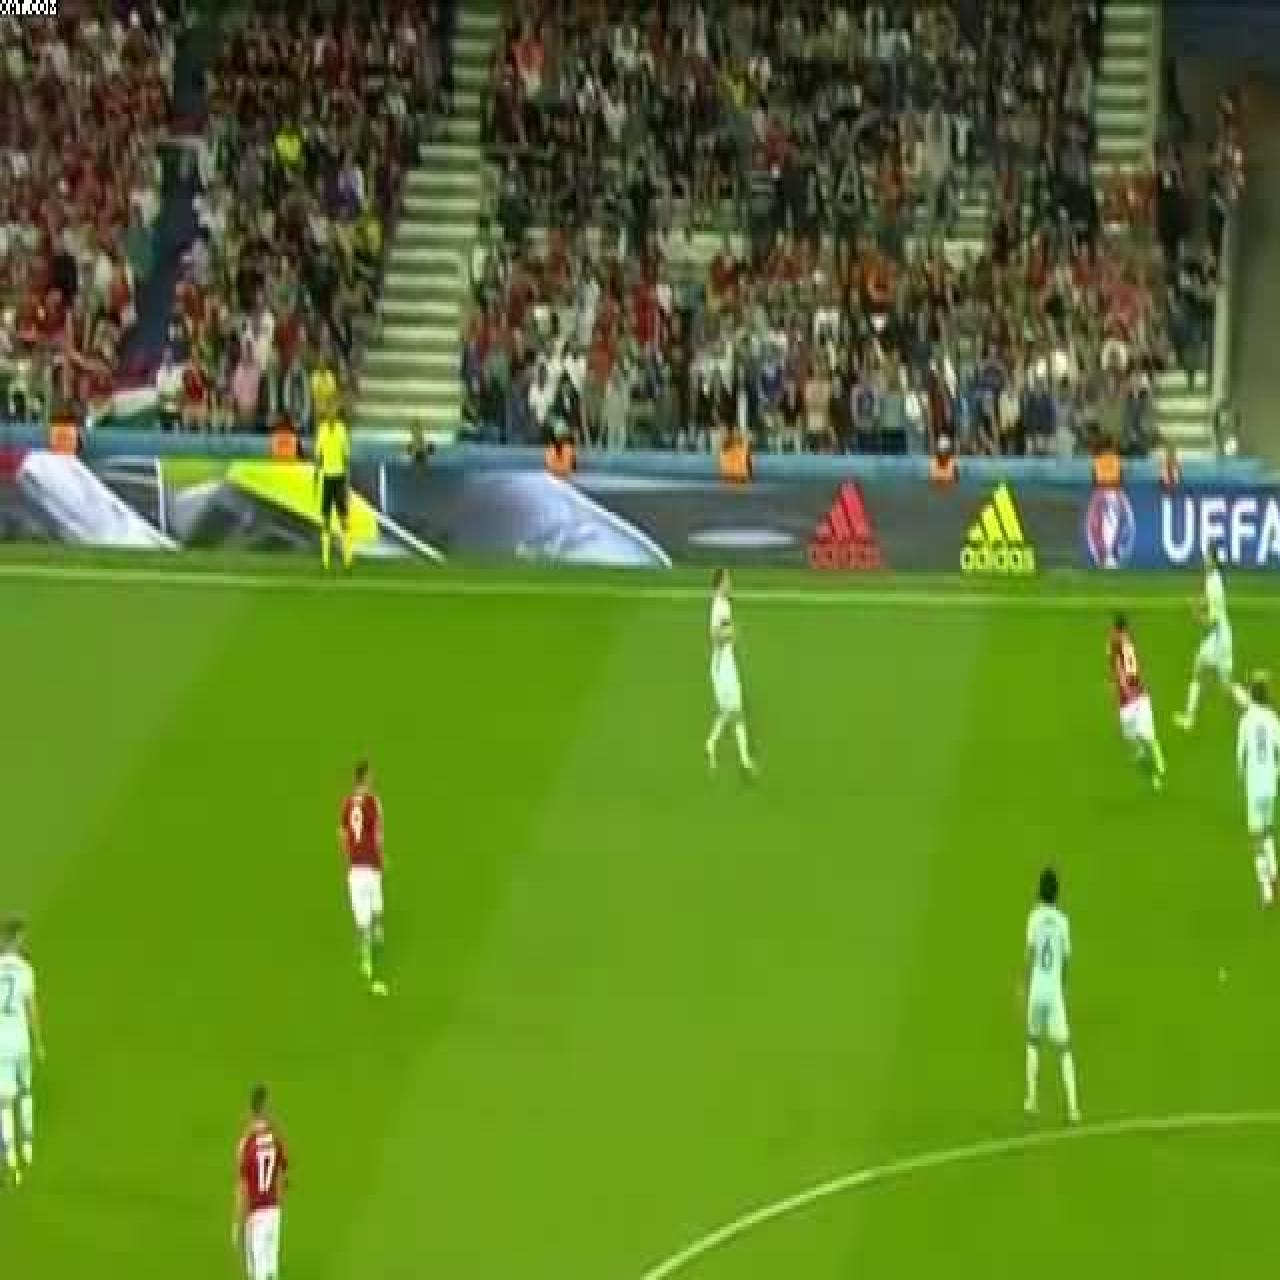football: (1021, 865, 1080, 1123), (1176, 551, 1253, 727), (0, 918, 45, 1188), (230, 1081, 290, 1280), (338, 761, 387, 1002), (703, 569, 755, 776), (1105, 609, 1163, 789), (1240, 669, 1280, 903), (311, 393, 351, 569)
